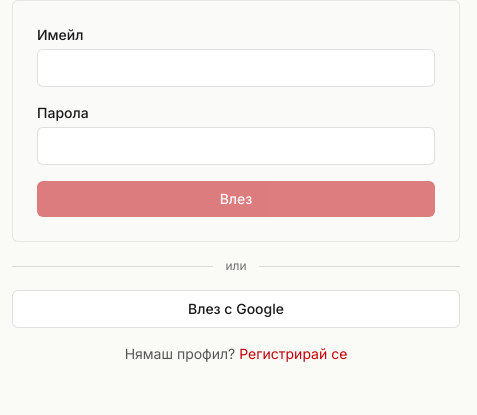
<SignInForm> › shows Bulgarian error on invalid credentials
Type "wrong@example.bg" into the field labelled "Имейл" at [236, 68], box [37, 49, 435, 87]
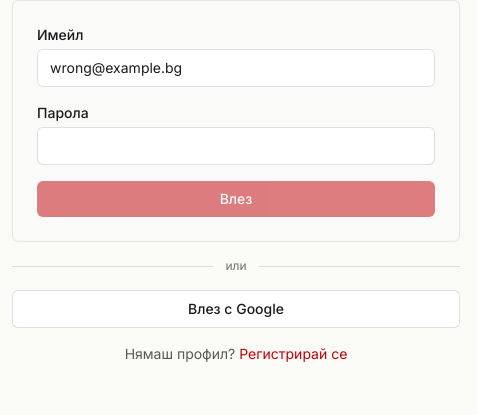
Type "bad" into the password field labelled "Парола" at [236, 146], box [37, 127, 435, 165]
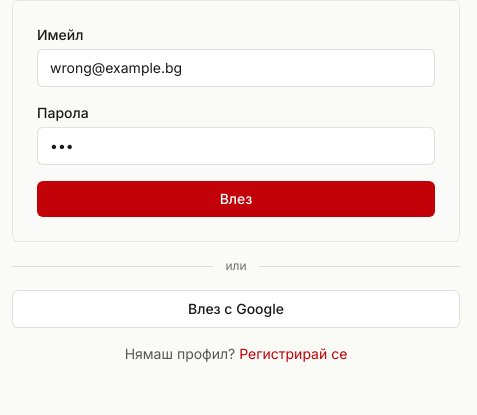
Click the button "Влез" at [236, 199], box [37, 181, 435, 217]
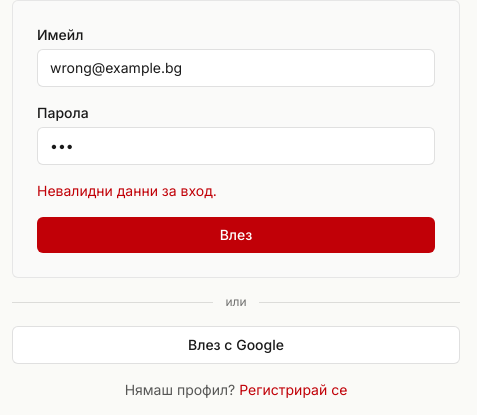
Check: the text "Невалидни данни за вход." is shown, box [37, 182, 217, 199]
